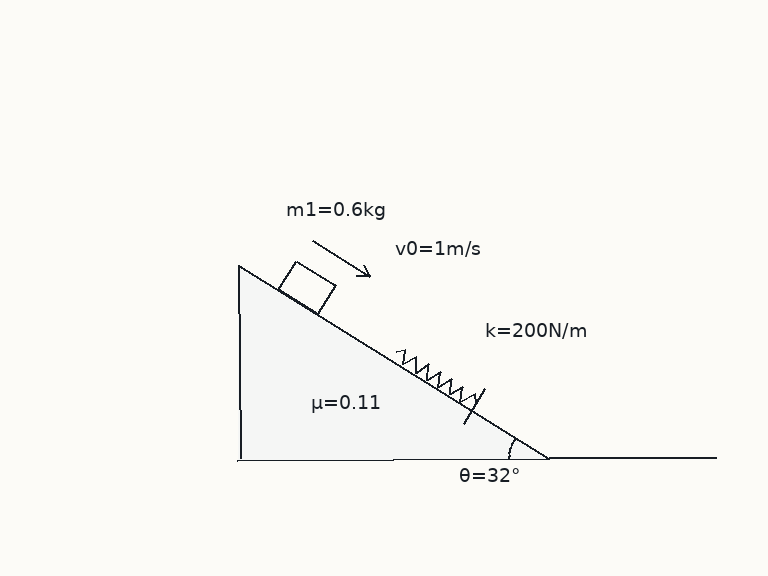block: (276, 259, 337, 316)
ramp: (237, 263, 551, 461)
spring: (393, 348, 478, 405)
